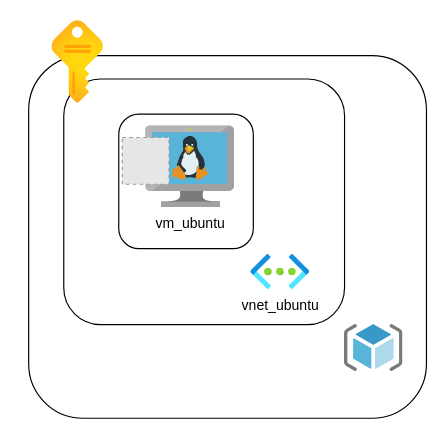
This 447x439 diagram has some shape labels left out. Grey dashed boxes stand in for pictures. The centre of each missing label's shape, as x and y in pixels:
"Azure for Students" goes at [77,61].
"rg_ubuntu" goes at [373,347].
